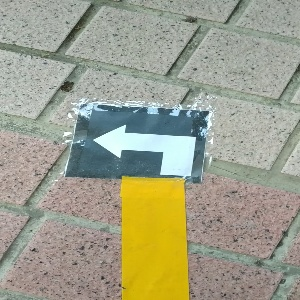left: (64, 102, 205, 184)
